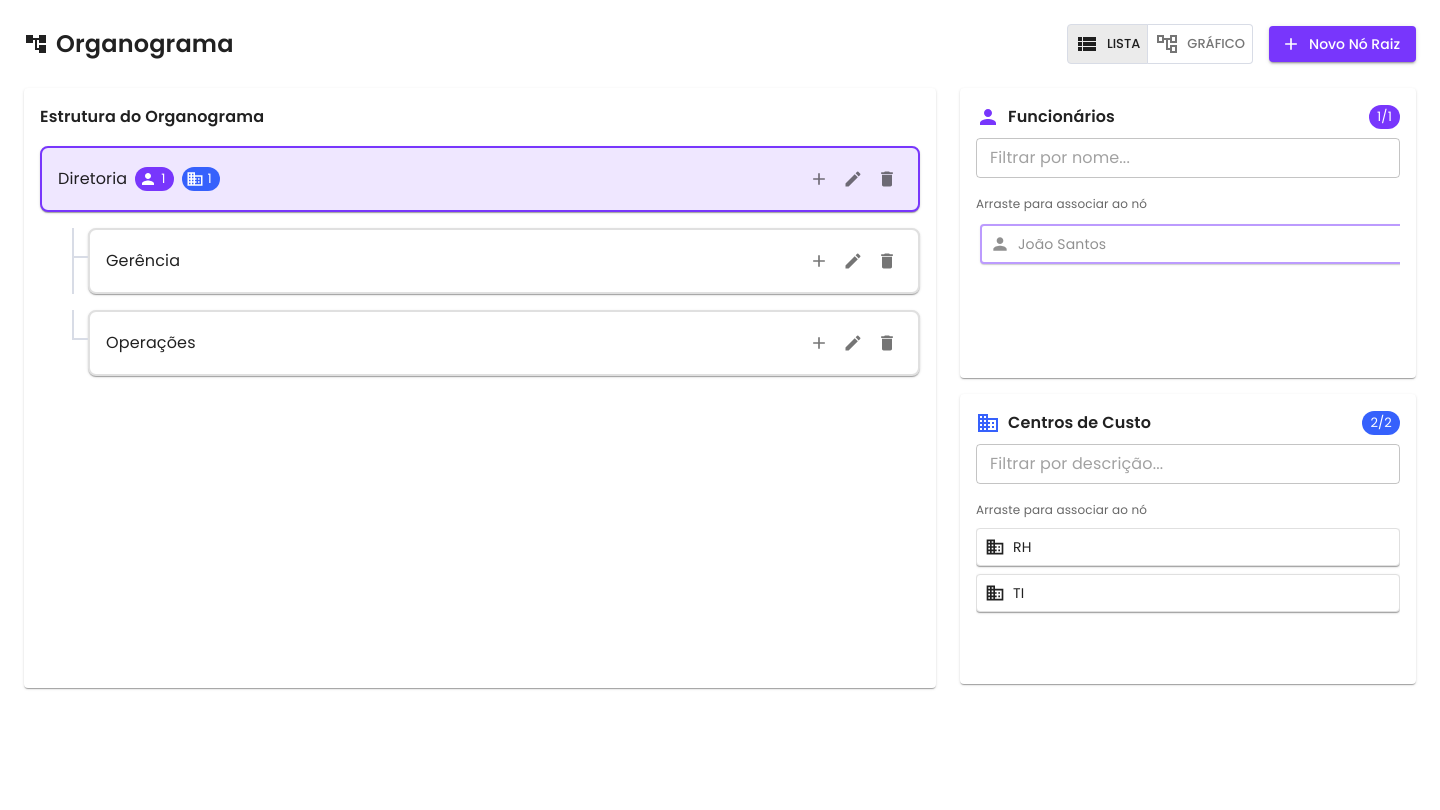
Organograma page › toggles expand off when clicking same node again
Expected: the heading "Diretoria" is shown, [58, 165, 127, 193]
Click the text "Diretoria".
click(480, 179)  # box [40, 146, 920, 212]
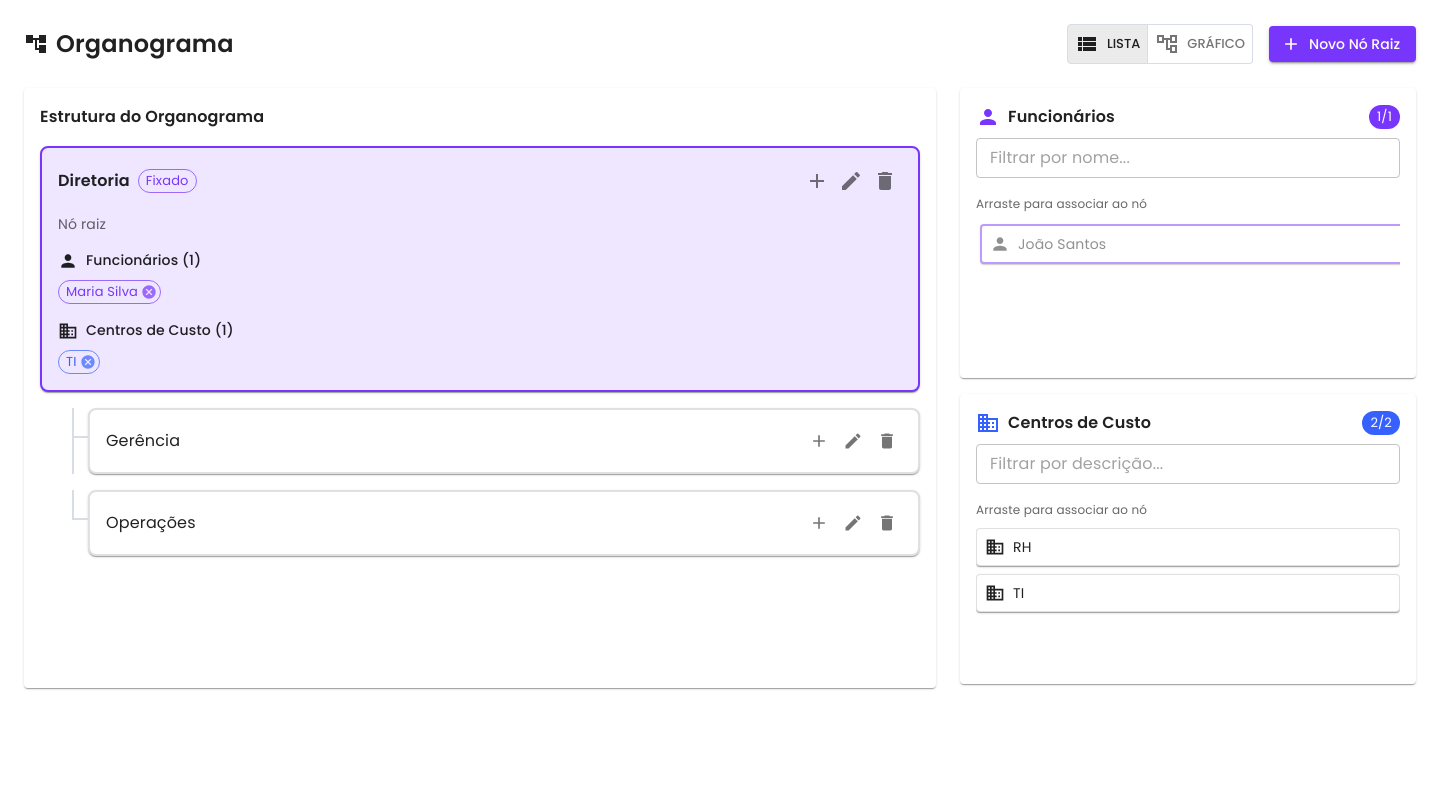
Expected: the text "Fixado" is shown, [146, 171, 189, 190]
Click the text "Diretoria".
click(480, 269)  # box [40, 146, 920, 392]
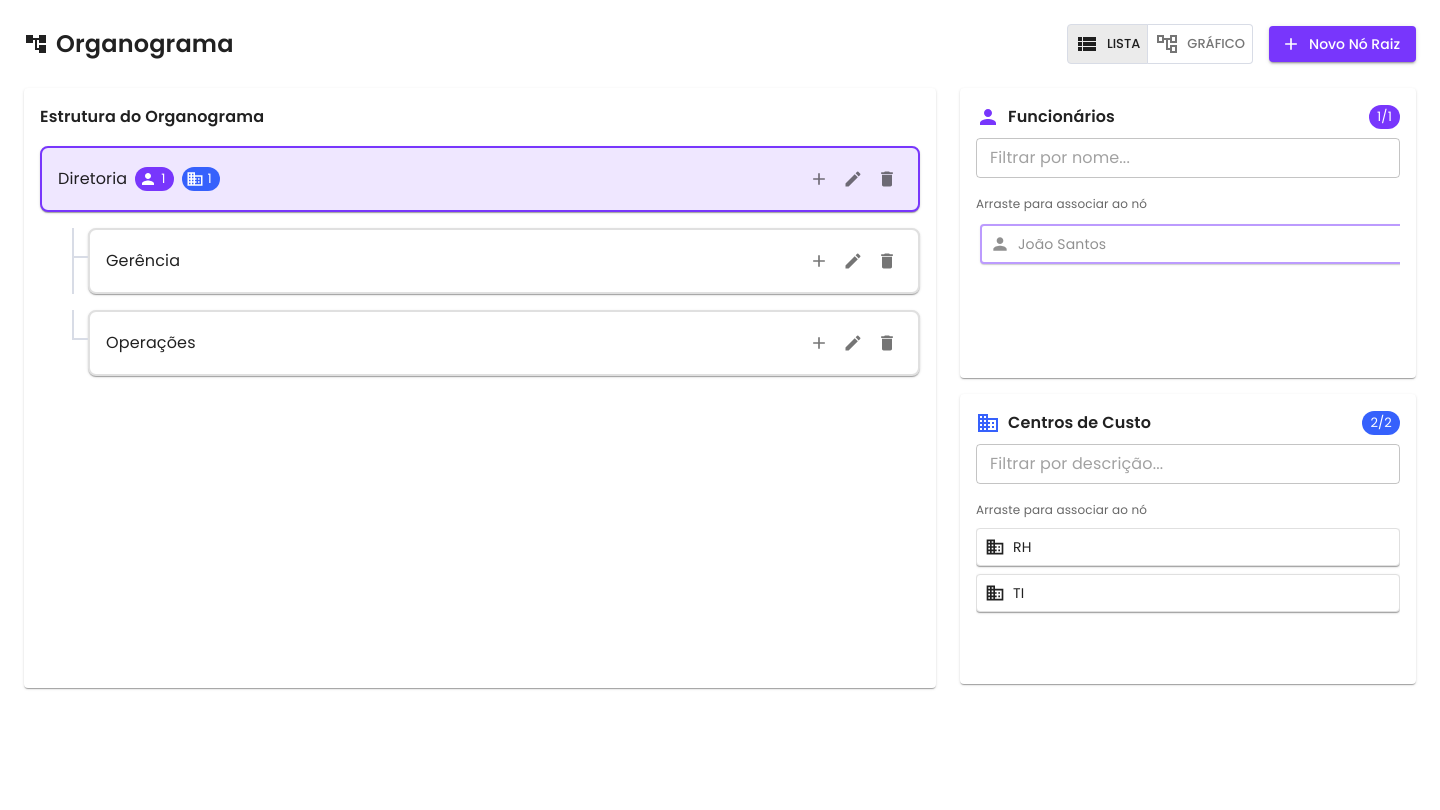
Expected: the text "Fixado" is gone
